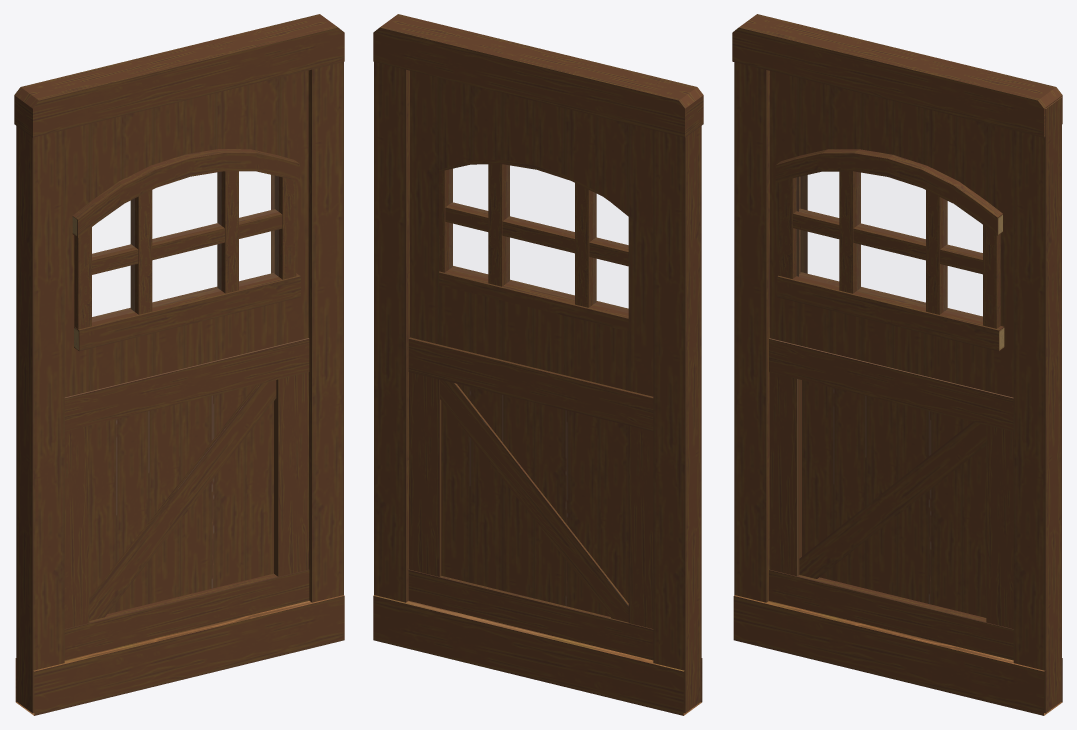
Rendered from Door_1_Flat.glb.
3 views of the same model, side by side, from view 1: azimuth 30°, elevation 25°; view 2: azimuth 150°, elevation 25°; view 3: azimuth 330°, elevation 25° (orthographic).
Parts seen in each view (by area): view 1: Door_1_Flat; view 2: Door_1_Flat; view 3: Door_1_Flat.
Part boxes in pixels (x1,y1,x2,y2): Door_1_Flat: (14,14,344,715); Door_1_Flat: (373,14,703,715); Door_1_Flat: (732,14,1062,715).
Size of the model in its own units: 1.12 by 2.1 by 0.1207.
Materials: 2 (1 with a texture image).
